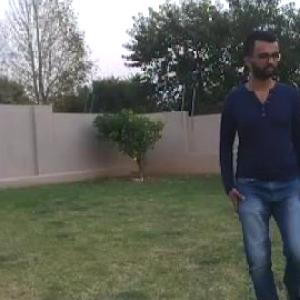follow: (212, 0, 300, 299)
